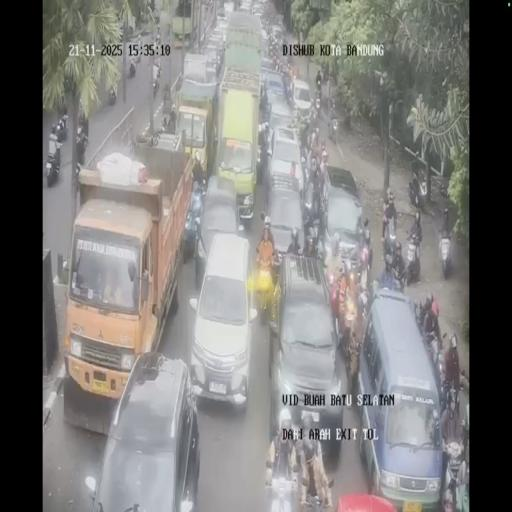3: (174, 59, 218, 177), (222, 8, 262, 80), (171, 2, 194, 47)
car: (356, 288, 444, 506), (89, 354, 199, 510), (268, 258, 344, 455), (196, 174, 242, 284), (320, 168, 365, 265), (263, 186, 306, 268), (267, 126, 303, 190), (261, 69, 288, 112), (292, 77, 313, 119), (203, 42, 223, 78), (259, 28, 270, 60), (270, 24, 284, 48), (260, 54, 276, 74), (216, 4, 228, 21), (251, 1, 264, 16), (239, 0, 252, 13), (117, 18, 125, 39)
truck: (441, 439, 467, 510), (421, 322, 443, 376), (437, 224, 453, 277), (404, 240, 422, 286), (408, 174, 427, 209), (382, 216, 397, 260), (46, 149, 60, 186), (76, 124, 88, 162), (327, 110, 338, 143), (309, 104, 319, 134), (299, 142, 309, 172), (75, 162, 84, 194), (148, 35, 156, 62), (314, 86, 322, 112), (60, 108, 68, 134), (153, 53, 161, 76), (152, 73, 159, 96), (162, 82, 170, 102), (108, 86, 116, 105), (129, 58, 136, 78), (134, 47, 142, 63), (155, 32, 161, 46)
